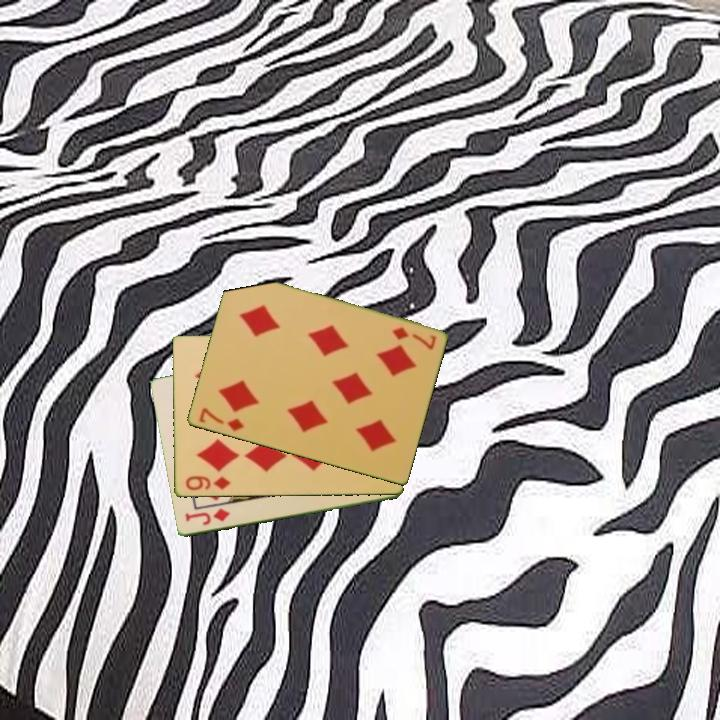7d: (195, 404, 246, 434), (389, 324, 439, 353)
9d: (182, 472, 233, 493)
Jd: (181, 505, 232, 529)
